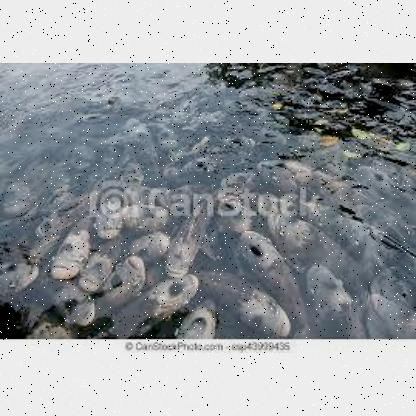gurame: (197, 272, 292, 338), (119, 278, 199, 336), (239, 232, 295, 298), (162, 195, 208, 275), (267, 213, 339, 261), (78, 238, 120, 292), (110, 254, 146, 309), (50, 221, 86, 275), (52, 282, 100, 322), (0, 257, 38, 299), (88, 199, 126, 235), (119, 204, 163, 231)
